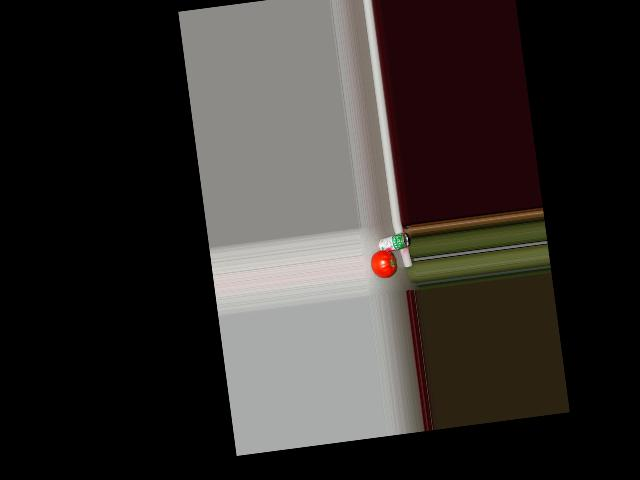tomato: (369, 249, 396, 279)
